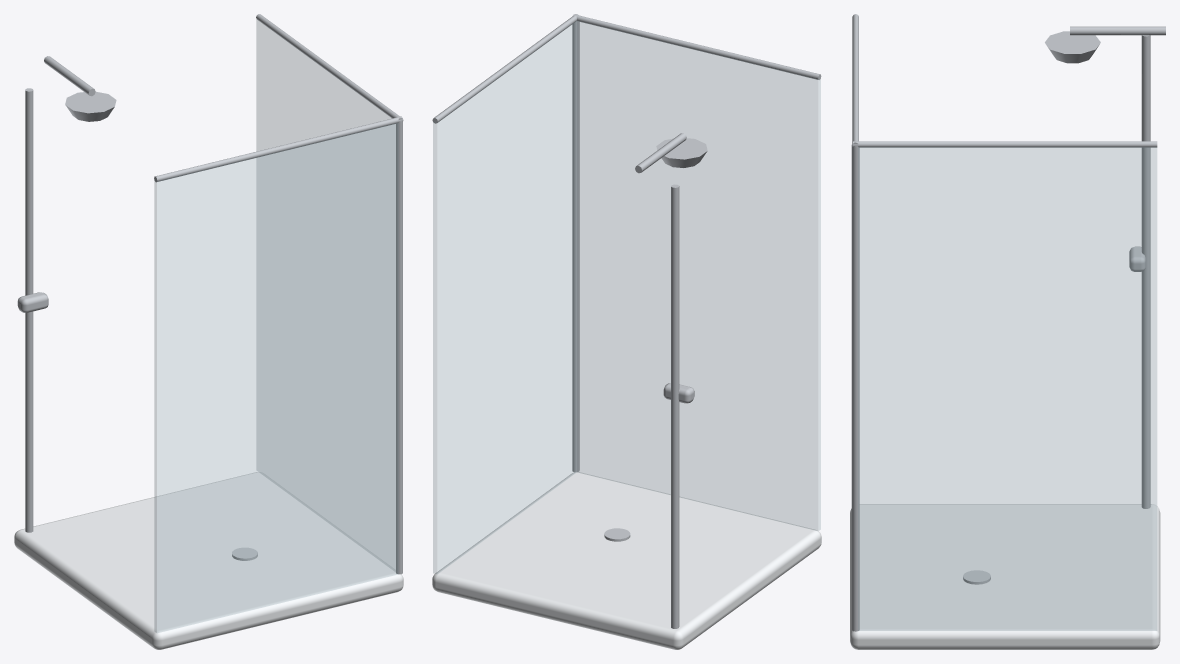
The model's file is shower.glb.
3 renders of one model, left to right at view 1: azimuth 30°, elevation 25°; view 2: azimuth 150°, elevation 25°; view 3: azimuth 270°, elevation 25°, orthographic. The views are drawn at different scales.
Bounding box in the file's own units: 1.11 × 2.02 × 1.12.
